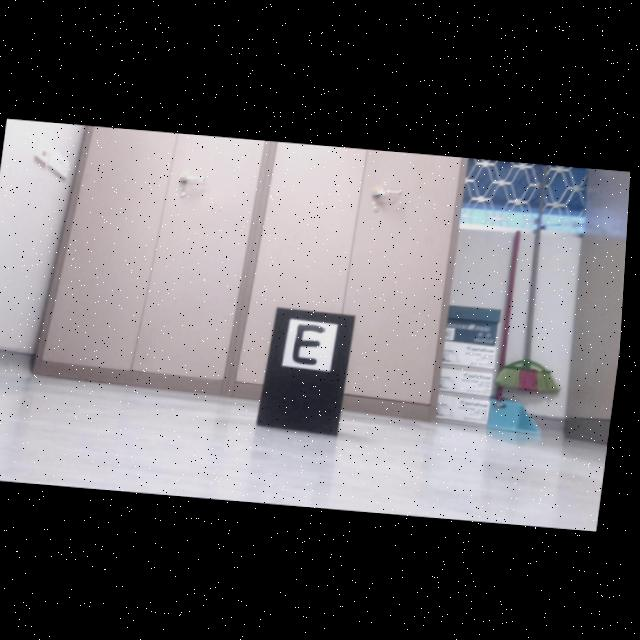E: (297, 323, 328, 364)
